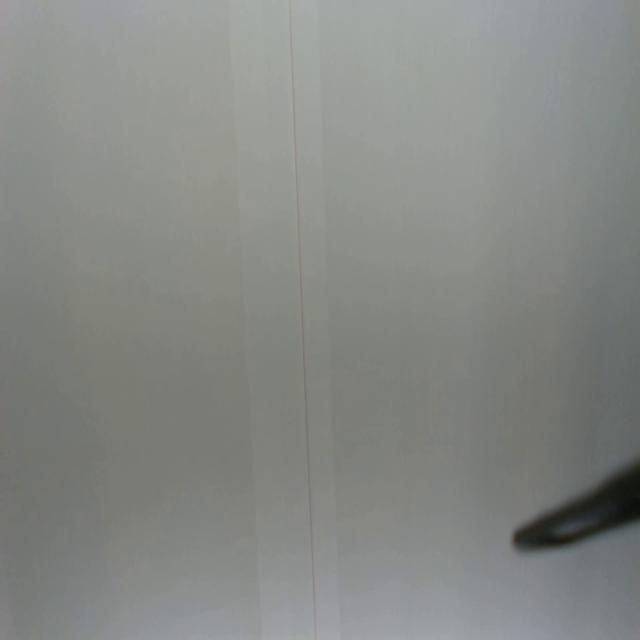crease: (287, 0, 319, 640)
